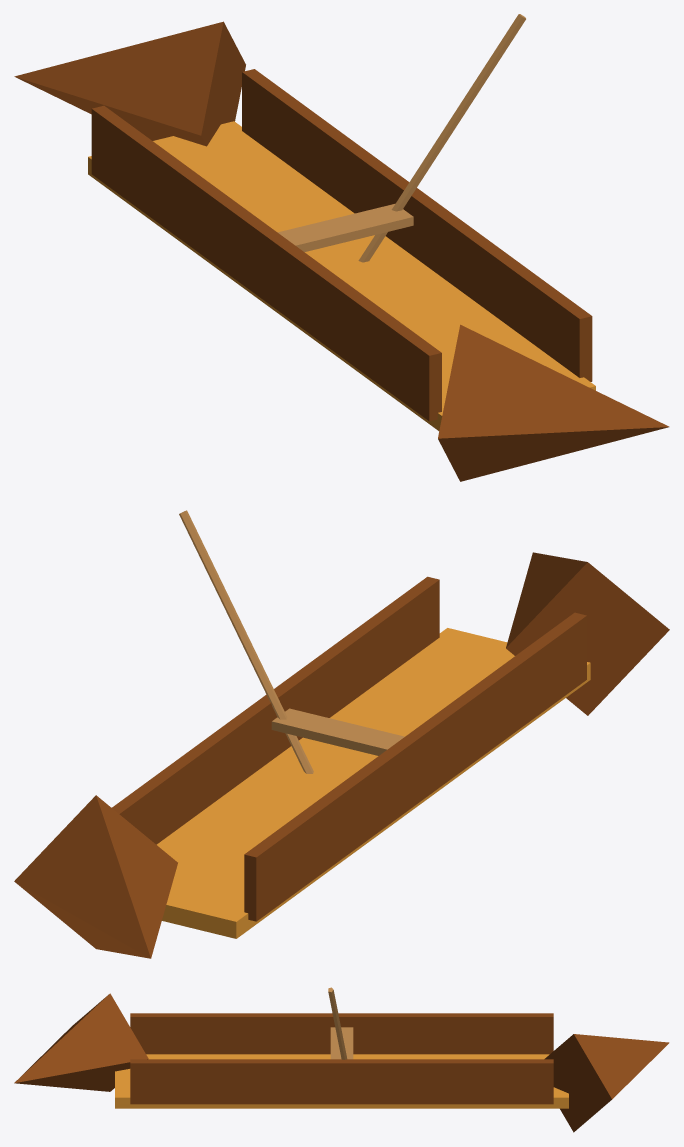
The model's file is town_canoe.glb.
The picture shows the model from 3 angles, top to bottom: view 1: azimuth 30°, elevation 25°; view 2: azimuth 150°, elevation 25°; view 3: azimuth 270°, elevation 25°; orthographic projection. The views are drawn at different scales.
Visible parts, largest first — view 1: canoe; view 2: canoe; view 3: canoe.
Boxes of the visible parts, x1,y1,x2,y2 form: canoe: (14, 14, 669, 481); canoe: (14, 510, 669, 958); canoe: (14, 987, 669, 1132).
Size of the model in its own units: 1.41 by 1.29 by 4.34.
